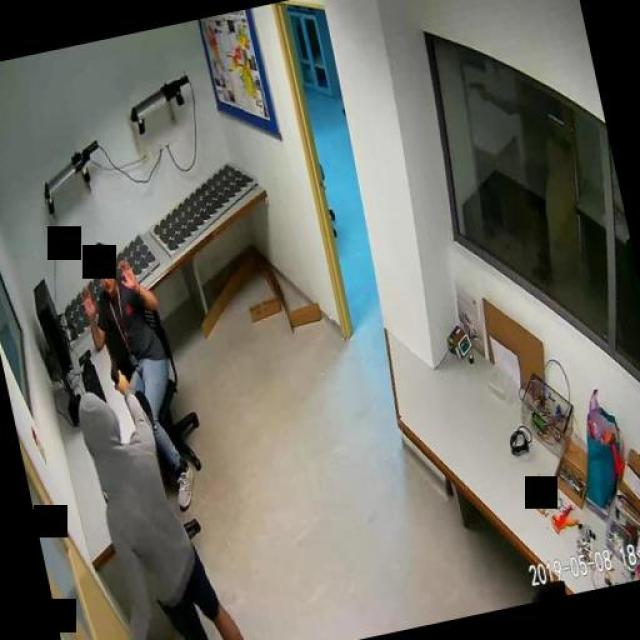gun: (104, 352, 128, 392)
